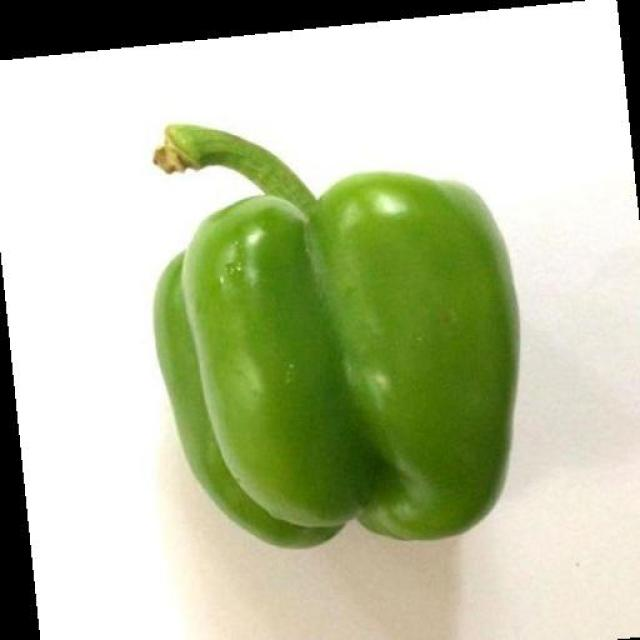Fresh_Capsicum: (103, 106, 564, 541)
